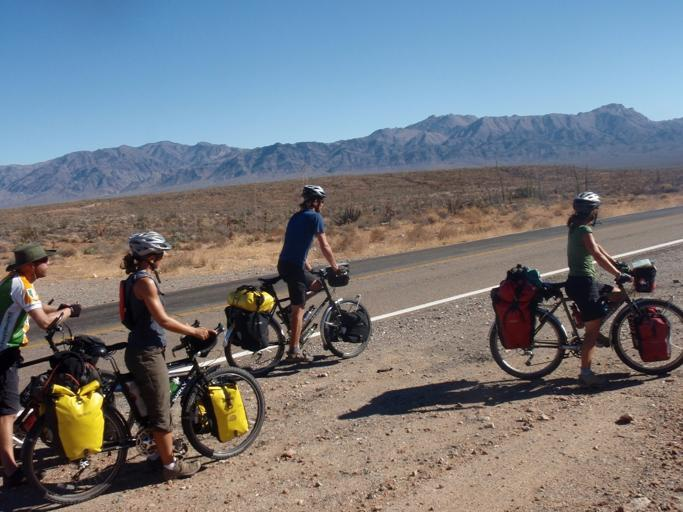non-vehicle: (20, 317, 265, 505), (487, 258, 682, 379), (0, 296, 135, 458), (221, 261, 371, 378)
